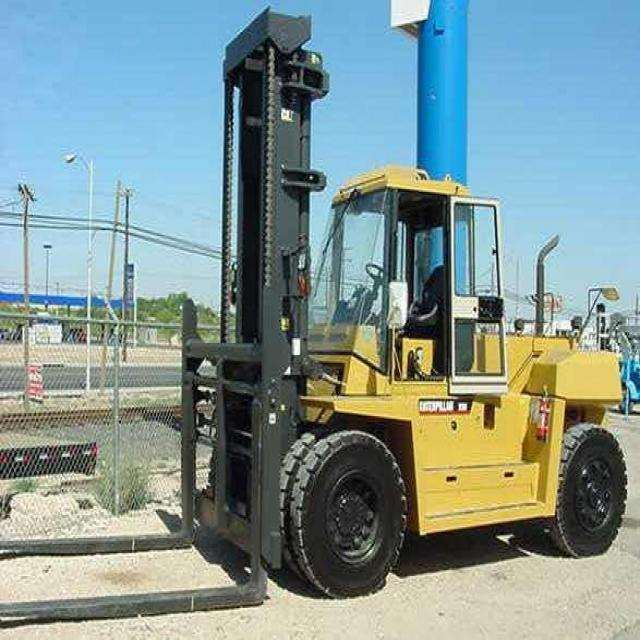Chariot elevateur: (0, 3, 628, 639)
